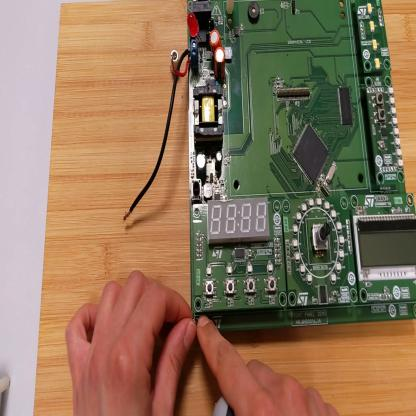hand: (63, 275, 199, 413), (200, 314, 334, 414)
low voltage board: (122, 2, 416, 334)
screwdriver-: (214, 400, 235, 412)
working area: (33, 2, 416, 416)
